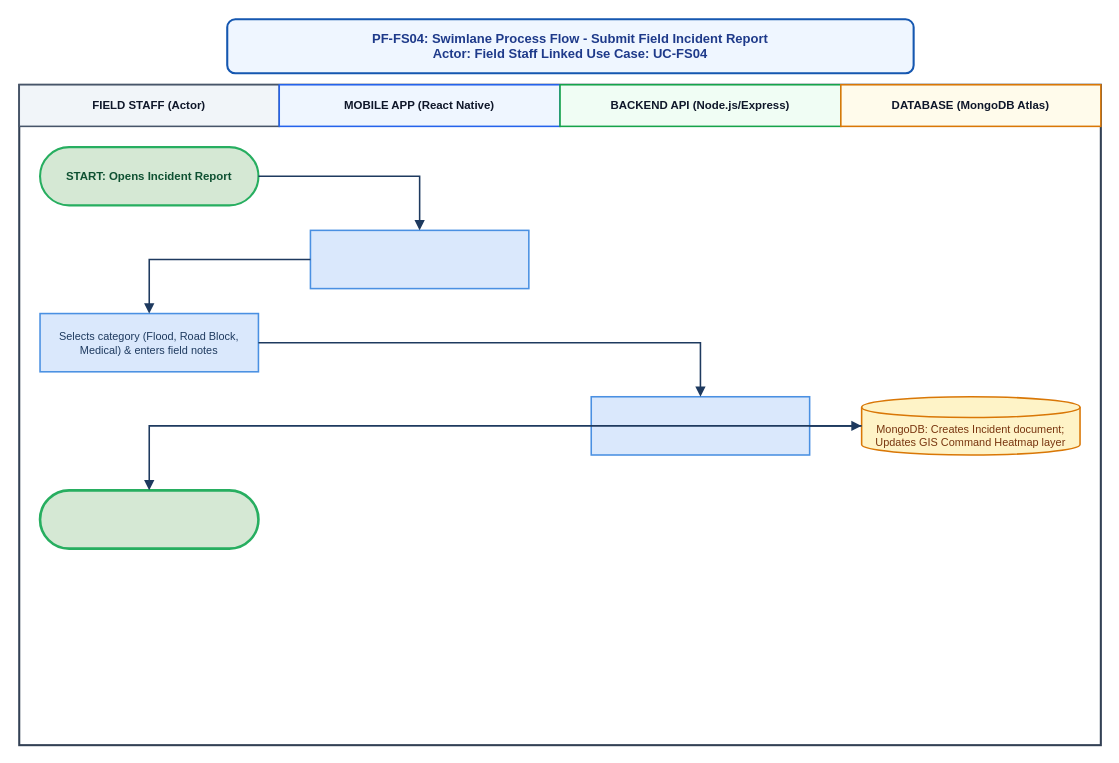
Some shapes in this 1119 by 763 pixel diagram are drawn without their labels. Each missing label, with the centre of its shape:
"App auto-captures field GPS coordinates and attaches camera photo" belongs at point 419,259.
"END: Incident reported and plotted" belongs at point 148,519.
"POST /api/incidents Socket.IO alert to Command Center room" belongs at point 700,425.
